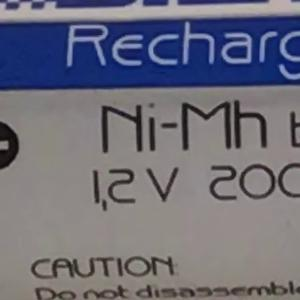keyword: (91, 90, 268, 163)
